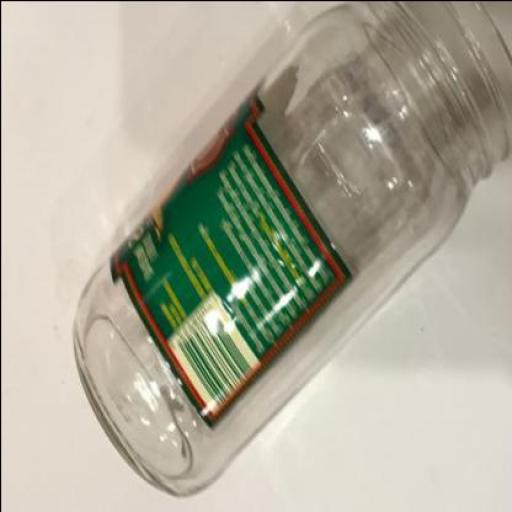glass: (70, 1, 511, 497)
